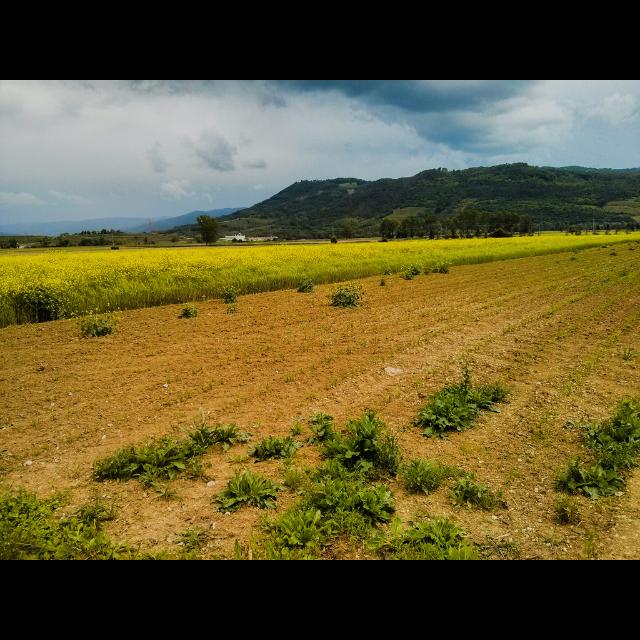Flower: (1, 234, 640, 330)
